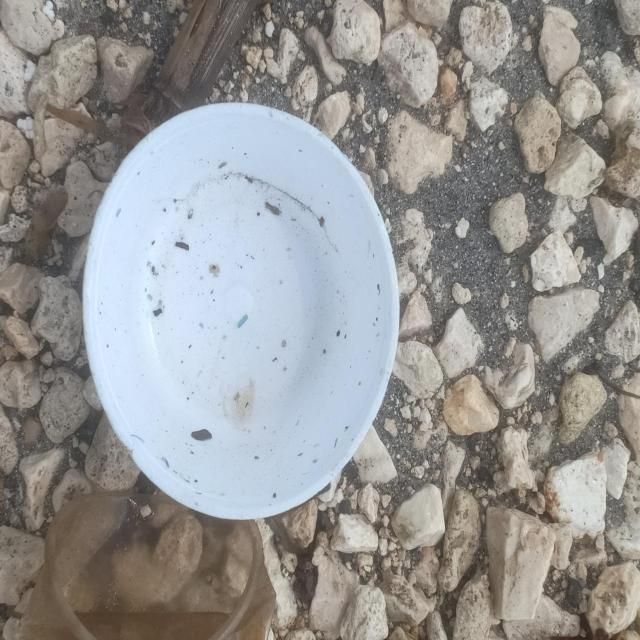plastic_waste: (81, 99, 404, 525)
